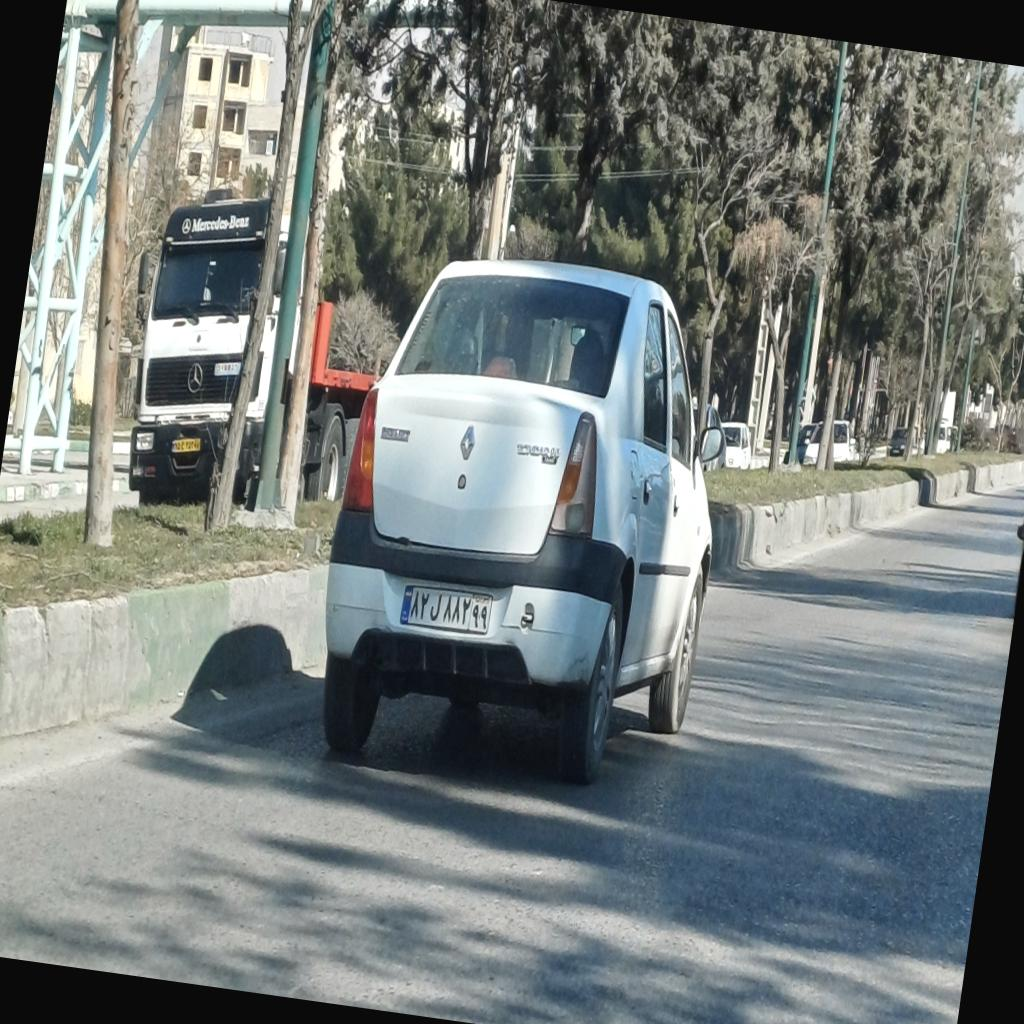Plates: (400, 584, 493, 634)
